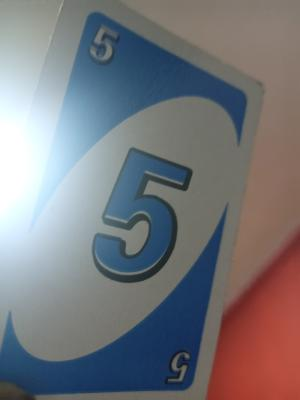blue: (71, 18, 195, 386)
num_5: (150, 341, 198, 393), (86, 24, 121, 69)
